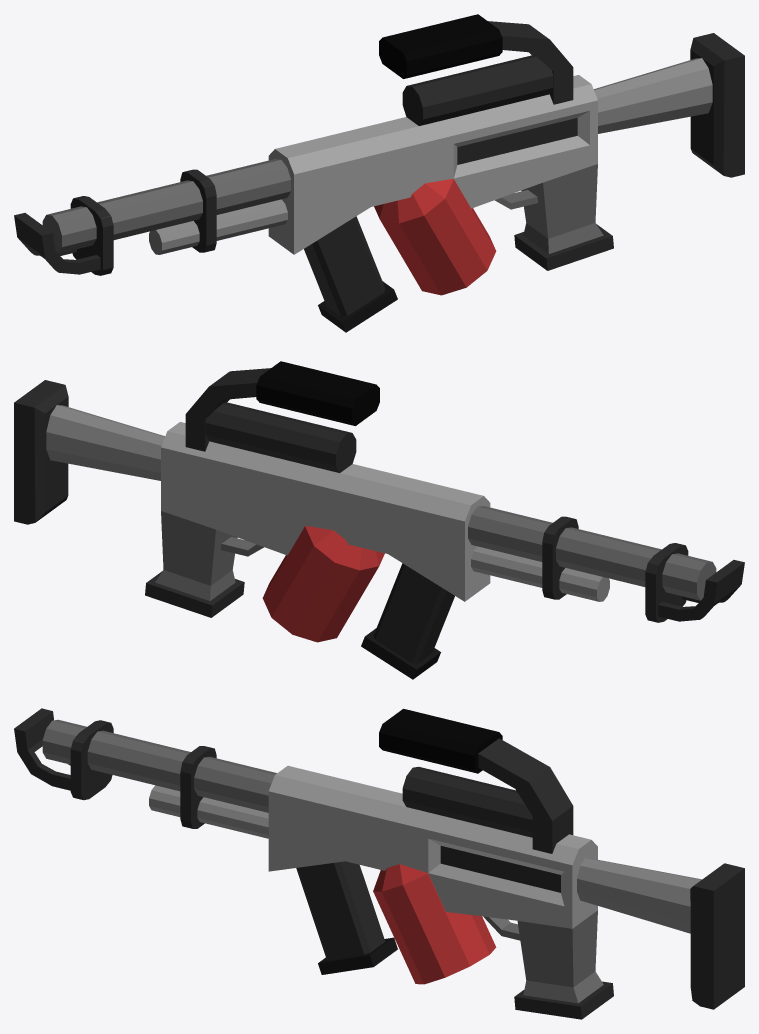
File: Flamethrower.fbx
3 renders of one model, top to bottom at view 1: azimuth 30°, elevation 25°; view 2: azimuth 150°, elevation 25°; view 3: azimuth 330°, elevation 25°, orthographic.
Visible parts, largest first — view 1: Flamethrower; view 2: Flamethrower; view 3: Flamethrower.
Boxes of the visible parts, x1,y1,x2,y2 form: Flamethrower: [14, 14, 744, 332]; Flamethrower: [14, 361, 744, 679]; Flamethrower: [14, 708, 744, 1019].
Size of the model in its own units: 146 by 52.55 by 15.22.
